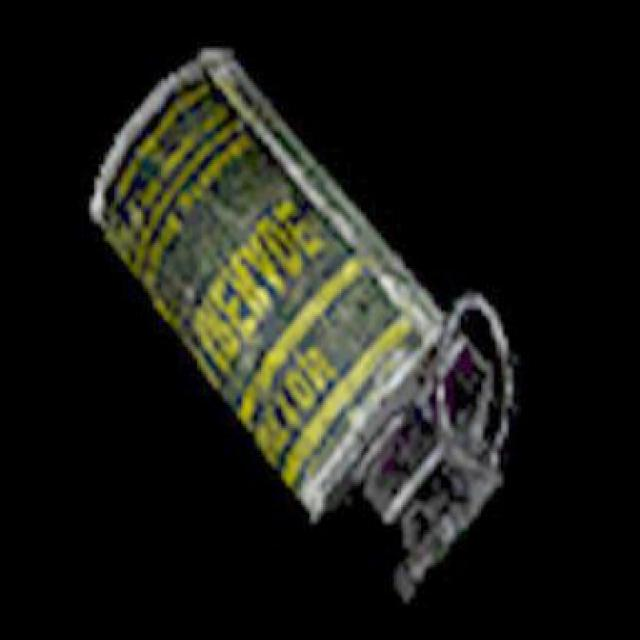grenade: (93, 50, 515, 597)
